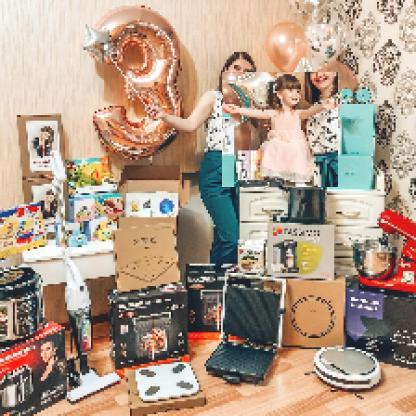child: (223, 73, 340, 189)
